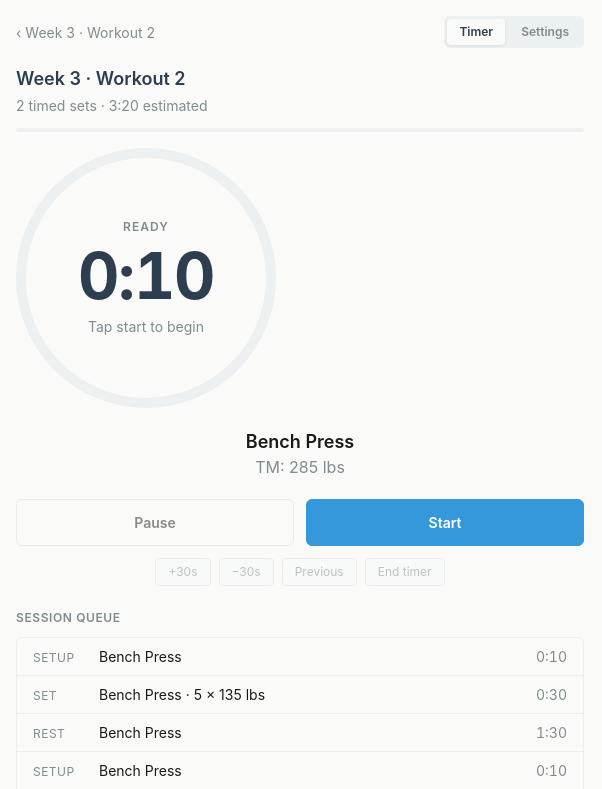
Scenario: WorkoutTimerView › the Settings tab › edits a duration through the stepper
The image size is (602, 789).
Step 1. Click the tab "Settings" → point(545, 32), box [509,19,581,45]
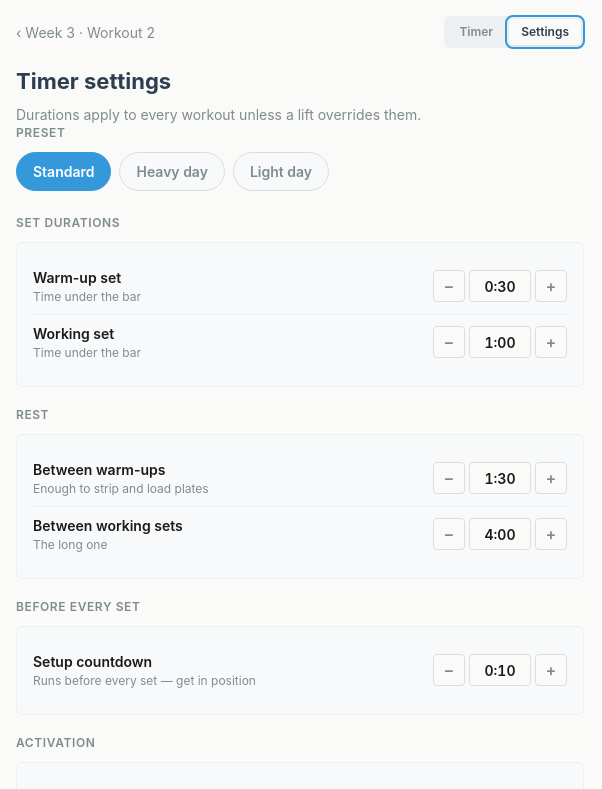
Now the field named "Working set" holds "1:00", box [469,326,531,358]
Step 2. Click the button named "Increase Working set" → point(551, 342), box [535,326,567,358]
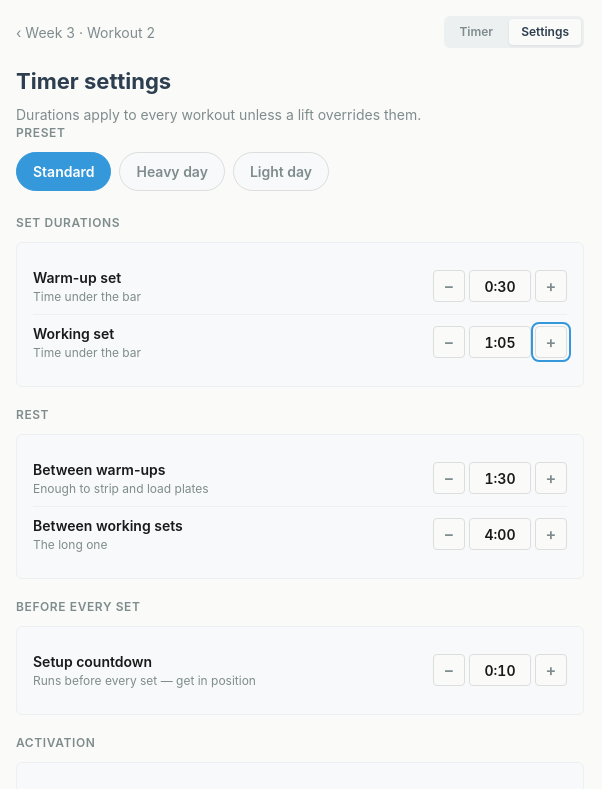
Now the field named "Working set" holds "1:05", box [469,326,531,358]
